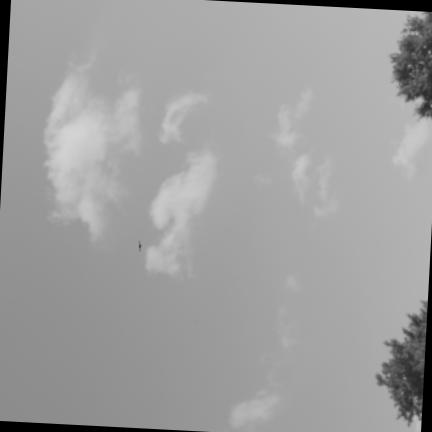Shahed: (138, 241, 141, 251)
